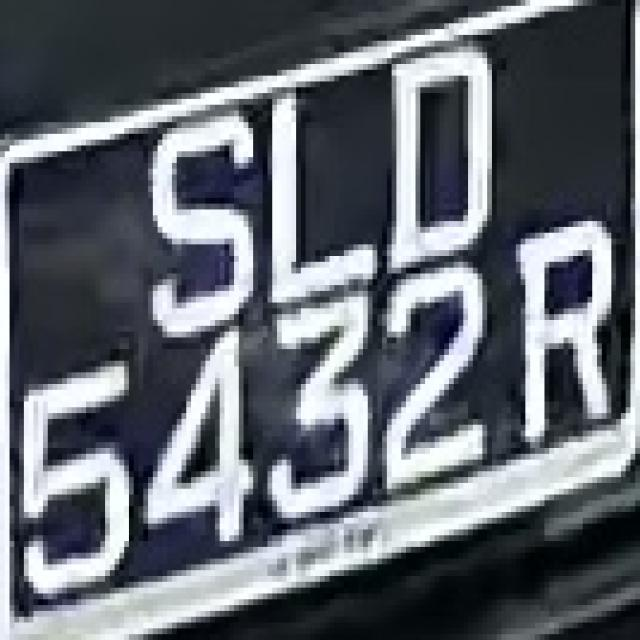2: (363, 262, 511, 500)
3: (258, 285, 377, 535)
4: (129, 285, 267, 559)
5: (5, 338, 143, 605)
D: (377, 29, 511, 268)
L: (253, 59, 387, 308)
R: (501, 204, 621, 466)
S: (138, 93, 268, 332)
